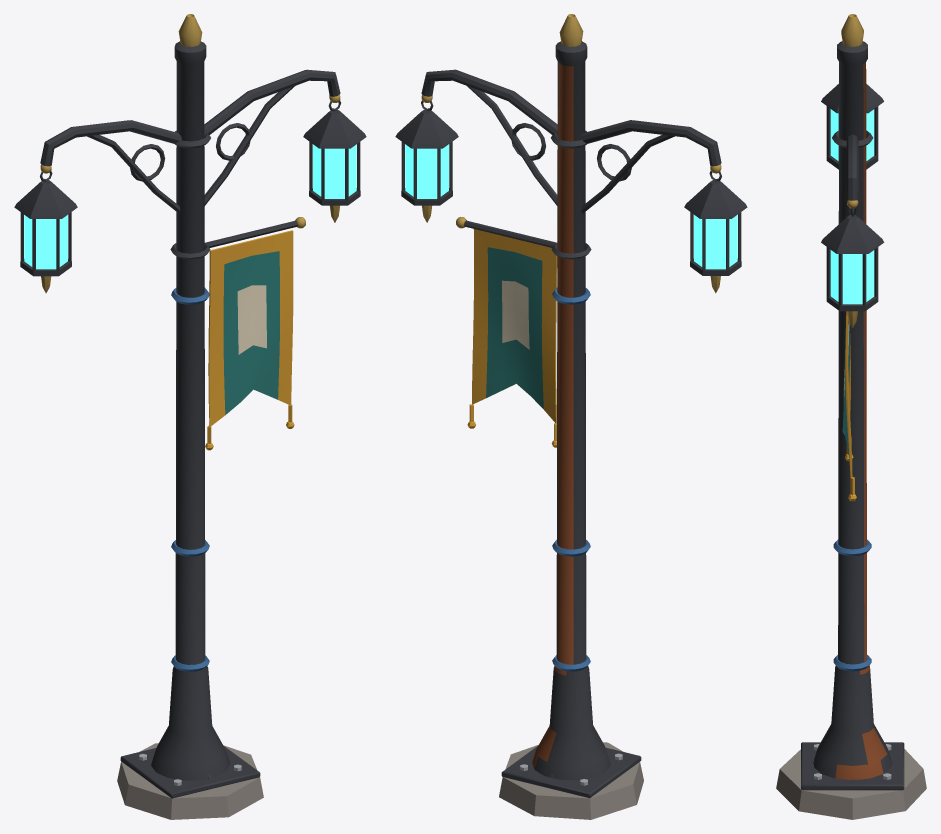
The model's file is deco_streetlamp_double.fbx.
3 views of the same model, side by side, from view 1: azimuth 30°, elevation 25°; view 2: azimuth 150°, elevation 25°; view 3: azimuth 270°, elevation 25° (orthographic).
Parts seen in each view (by area): view 1: Streetlamp_Double_Post, Streetlamp_Double_Banner, Streetlamp_Double_Arms, Streetlamp_Double_LanternL, Streetlamp_Double_LanternR; view 2: Streetlamp_Double_Post, Streetlamp_Double_Banner, Streetlamp_Double_Arms, Streetlamp_Double_LanternR, Streetlamp_Double_LanternL; view 3: Streetlamp_Double_Post, Streetlamp_Double_LanternR, Streetlamp_Double_LanternL, Streetlamp_Double_Arms, Streetlamp_Double_Banner.
Part boxes in pixels (<box>): Streetlamp_Double_Post: <box>117,14,263,819</box>; Streetlamp_Double_Banner: <box>170,217,305,450</box>; Streetlamp_Double_Arms: <box>40,69,340,213</box>; Streetlamp_Double_LanternL: <box>14,171,77,293</box>; Streetlamp_Double_LanternR: <box>303,100,366,222</box>; Streetlamp_Double_Post: <box>499,14,643,819</box>; Streetlamp_Double_Banner: <box>456,217,591,447</box>; Streetlamp_Double_Arms: <box>421,69,721,213</box>; Streetlamp_Double_LanternR: <box>395,100,458,222</box>; Streetlamp_Double_LanternL: <box>684,171,747,293</box>; Streetlamp_Double_Post: <box>776,14,926,819</box>; Streetlamp_Double_LanternR: <box>821,207,884,328</box>; Streetlamp_Double_LanternL: <box>821,84,883,169</box>; Streetlamp_Double_Arms: <box>832,130,873,214</box>; Streetlamp_Double_Banner: <box>842,311,856,501</box>.
Bounding box in the file's own units: 196 × 430 × 76.04.
